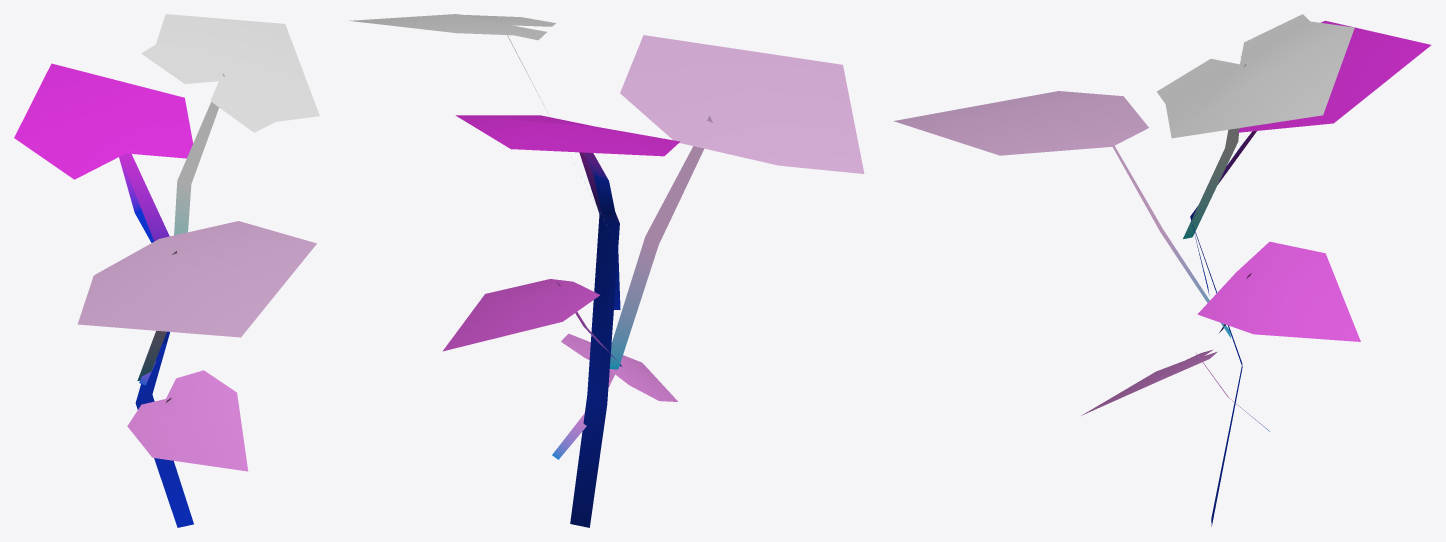
The model's file is English_Ivy_xfcnebhqx_Mid_xfcnebhqx_VarI_LOD1.fbx.
The picture shows the model from 3 angles, left to right: view 1: azimuth 30°, elevation 25°; view 2: azimuth 150°, elevation 25°; view 3: azimuth 270°, elevation 25°; orthographic projection. The views are drawn at different scales.
Parts seen in each view (by area): view 1: _anak_VarI_LOD3; view 2: _anak_VarI_LOD3; view 3: _anak_VarI_LOD3.
Boxes of the visible parts, x1=… form: _anak_VarI_LOD3: x1=14, y1=14, x2=319, y2=527; _anak_VarI_LOD3: x1=349, y1=14, x2=864, y2=527; _anak_VarI_LOD3: x1=893, y1=14, x2=1431, y2=526.
Size of the model in its own units: 14.01 by 18.85 by 17.71.
